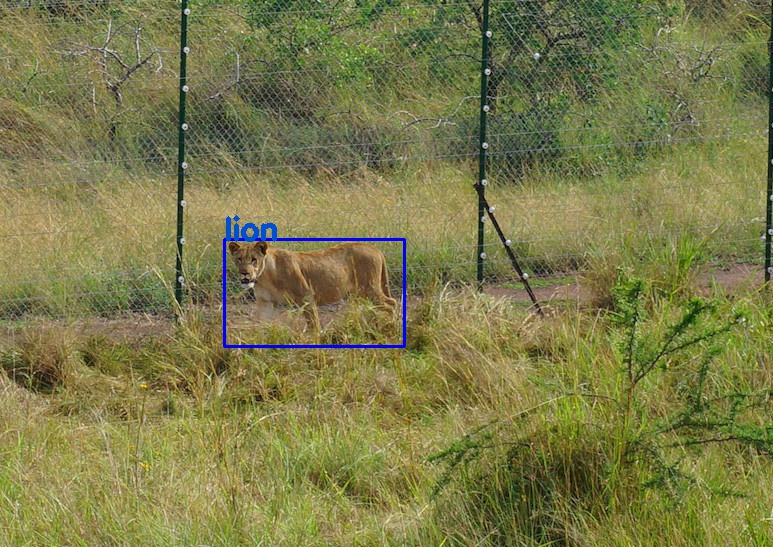lion: (224, 239, 404, 345)
